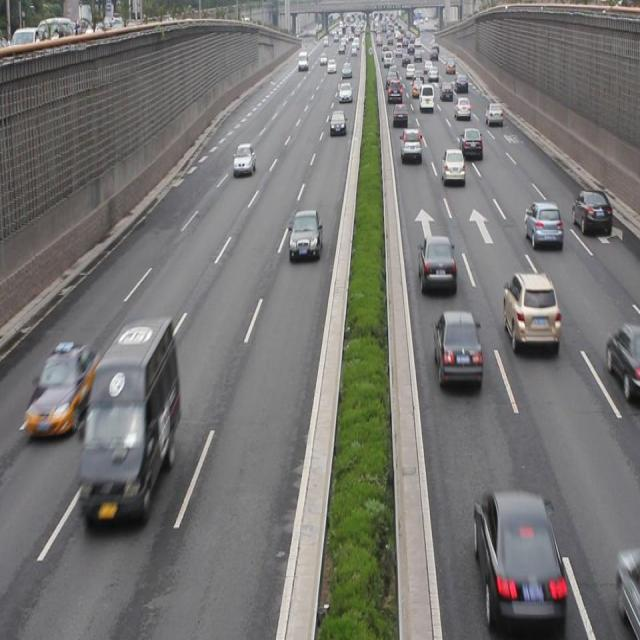car: (472, 489, 564, 632), (26, 345, 102, 440), (501, 271, 559, 351), (434, 310, 482, 393), (604, 324, 640, 404), (417, 235, 456, 291), (615, 544, 640, 627), (573, 185, 610, 238), (524, 202, 560, 248), (289, 212, 322, 258), (440, 145, 464, 187), (399, 126, 421, 161), (459, 128, 482, 158), (234, 142, 254, 174), (328, 110, 346, 135), (484, 103, 502, 126), (392, 102, 407, 128)
truck: (83, 321, 183, 522)
